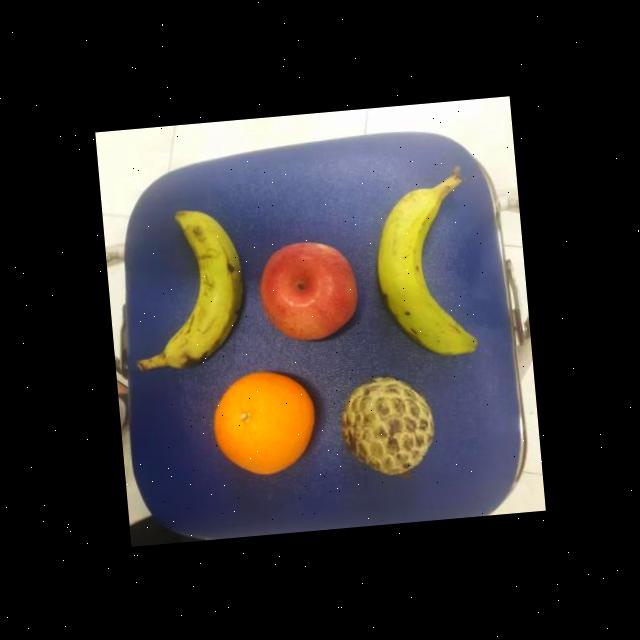Sakya fruit: (334, 370, 443, 481)
apple: (252, 234, 362, 344)
banana: (366, 176, 474, 360), (148, 202, 252, 370)
orange: (209, 362, 323, 478)
